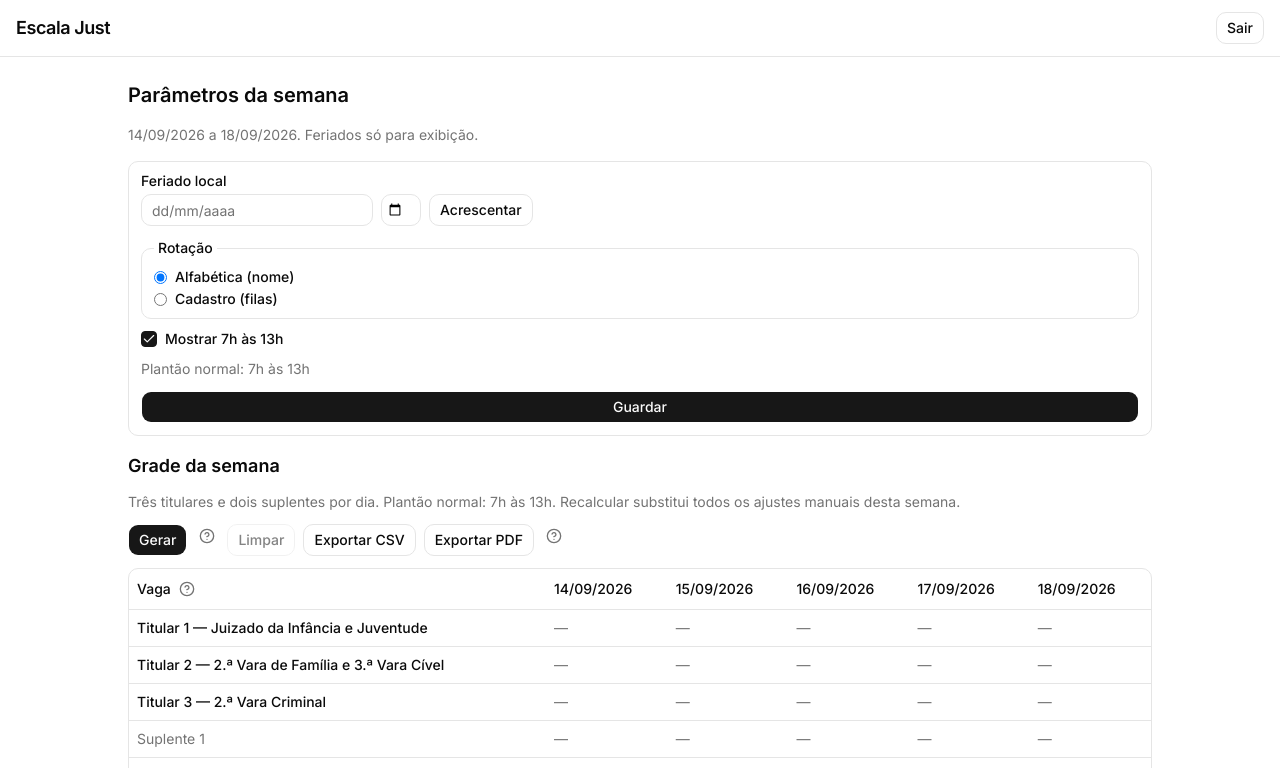
Test: guardas de rota › gerar semana vazia começa pelo primeiro nome
The width and height of the screenshot is (1280, 768).
Click the button "Gerar": {"x": 158, "y": 540} left=128, top=524, right=187, bottom=556
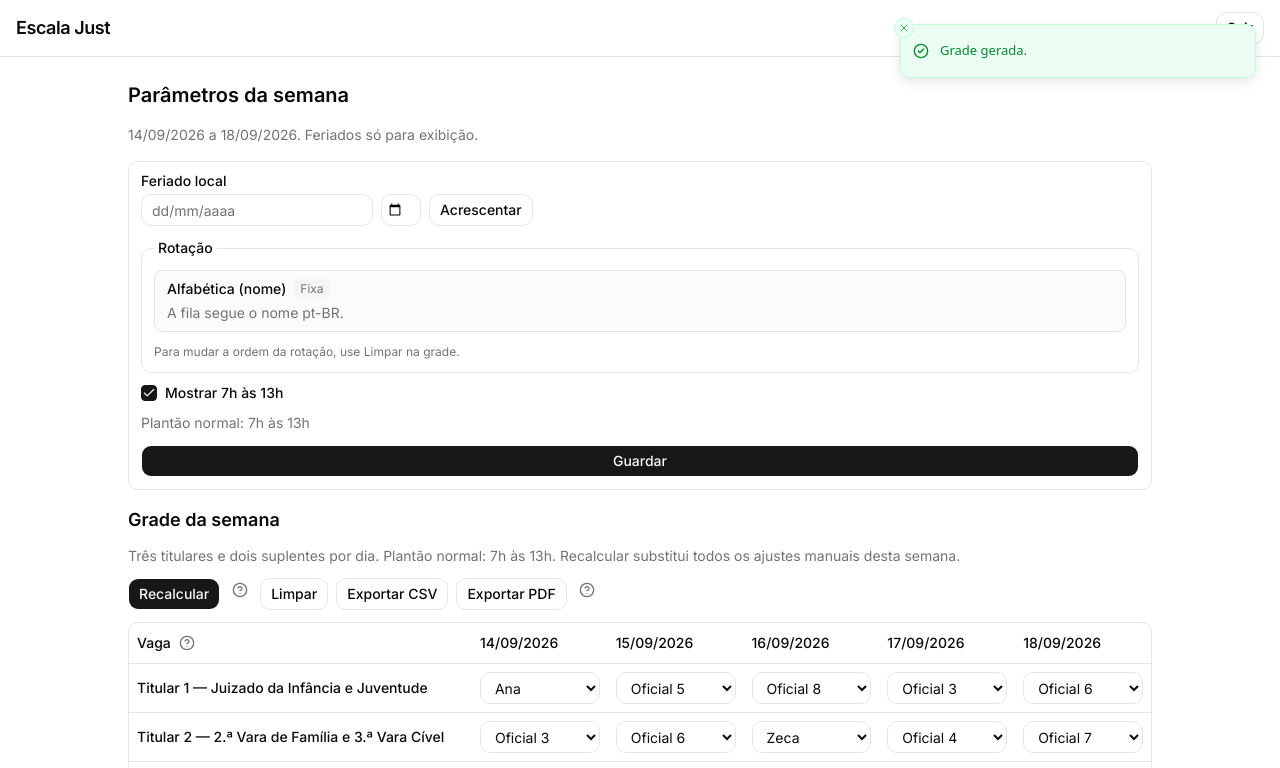
Expected: the dropdown named "Titular 1 em 14/09/2026" shows "Ana", left=480, top=672, right=600, bottom=704
